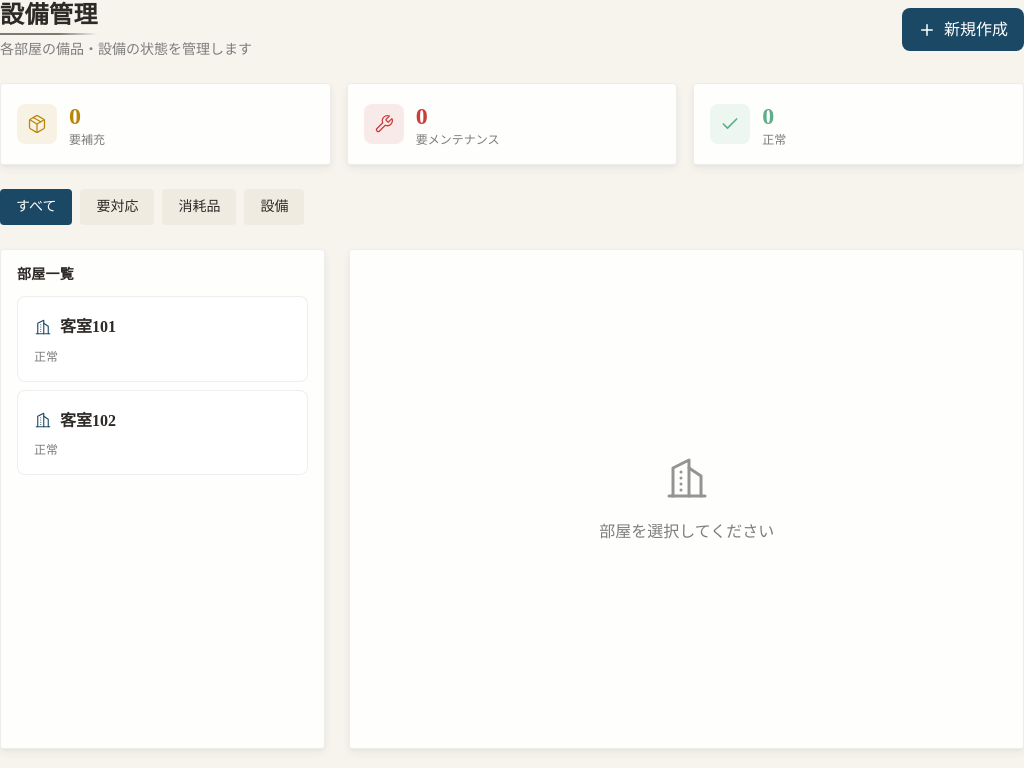
Test: CreateItemModalの共通Modal移行 › CreateItemModalが共通Modalのrole=dialogを持つ
Click the button "新規作成". click: (963, 30)
box: [902,8,1023,51]
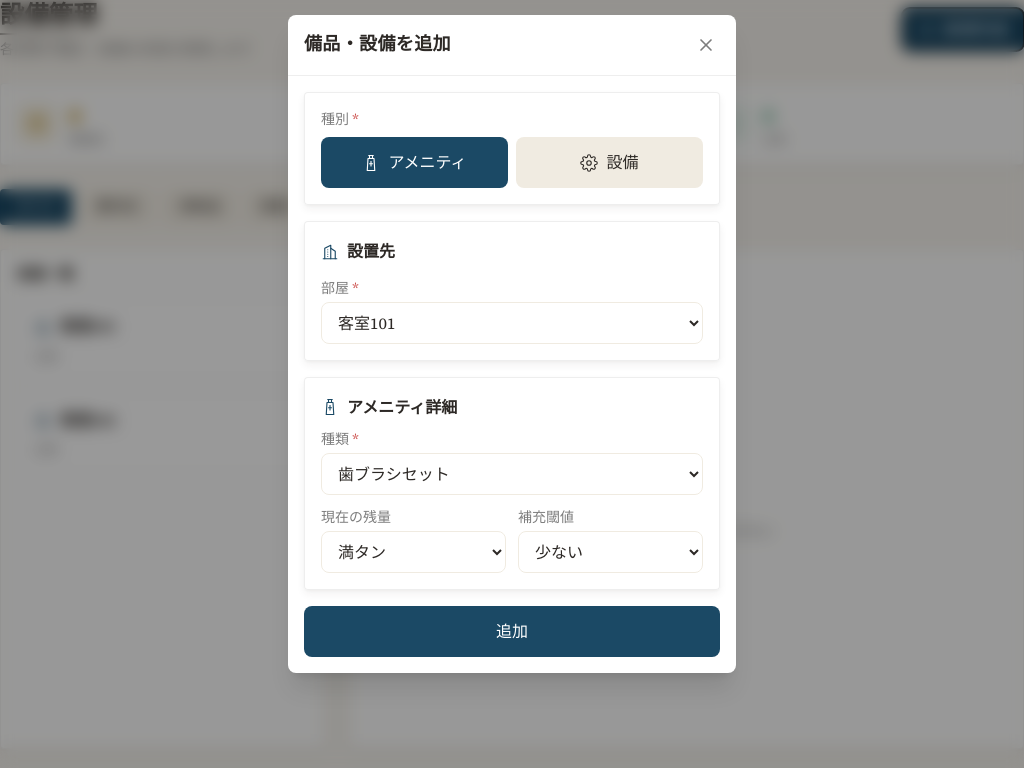
Expected: the dialog is shown, [288,15,736,673]
Expected: the heading "備品・設備を追加" is shown, [304,33,451,57]
